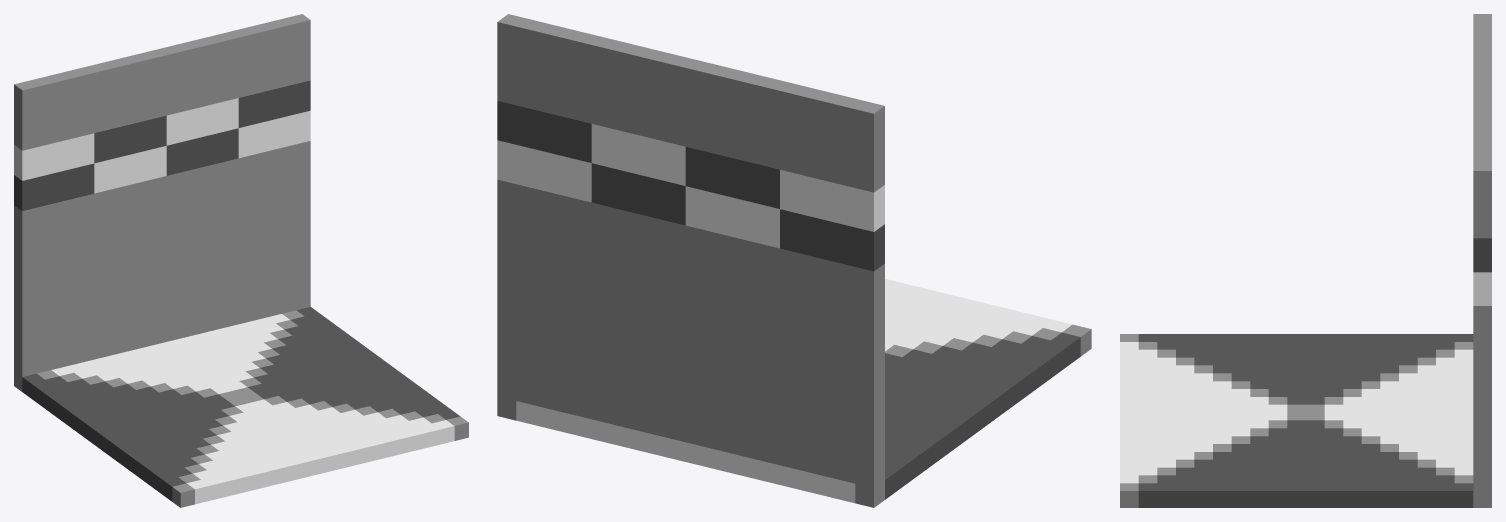
Rendered from Test Block-9.obj.
3 views of the same model, side by side, from view 1: azimuth 30°, elevation 25°; view 2: azimuth 150°, elevation 25°; view 3: azimuth 270°, elevation 25° (orthographic). The views are drawn at different scales.
Parts seen in each view (by area): view 1: Test Block-9; view 2: Test Block-9; view 3: Test Block-9.
Boxes of the visible parts, left/top/right/bottom form: Test Block-9: left=14, top=14, right=468, bottom=507; Test Block-9: left=497, top=14, right=1091, bottom=507; Test Block-9: left=1120, top=14, right=1491, bottom=507.
Bounding box in the file's own units: 20 × 20 × 20.
1 material, 1 textured.
